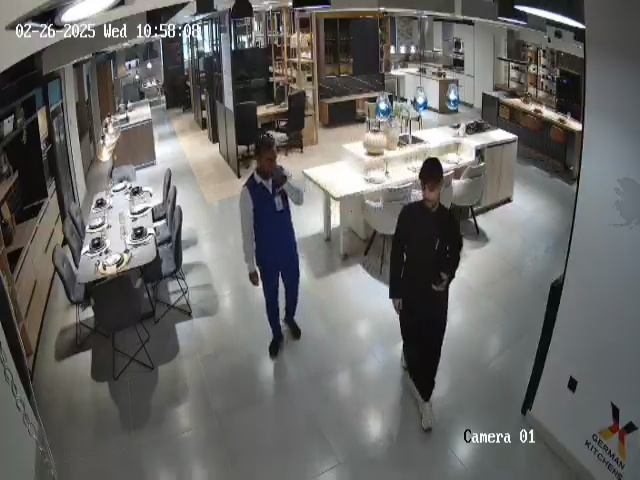employee: (239, 134, 304, 359)
male: (388, 158, 463, 433)
